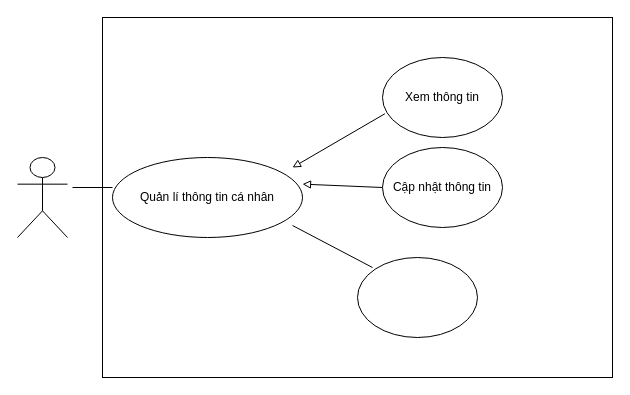
This 630x395 diagram has some shape labels left out. Each missing label, with the centre of its shape:
Admin: point (42, 197)
Đổi mật khẩu: point (417, 297)
